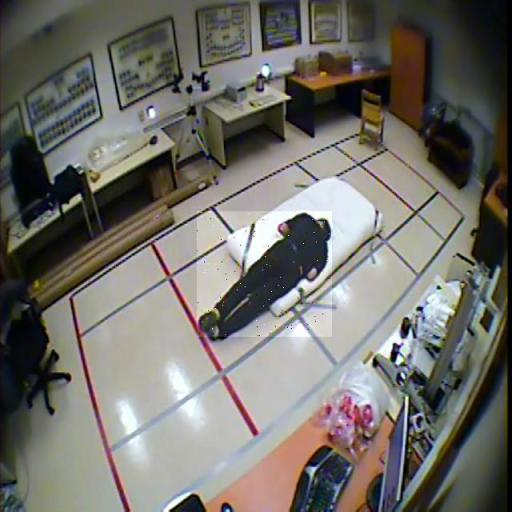Fall: (197, 211, 332, 337)
